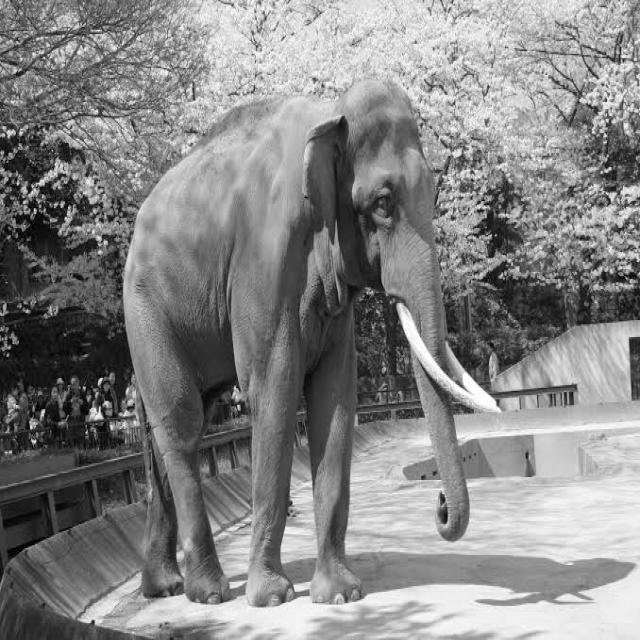Elephant: (121, 77, 502, 608)
